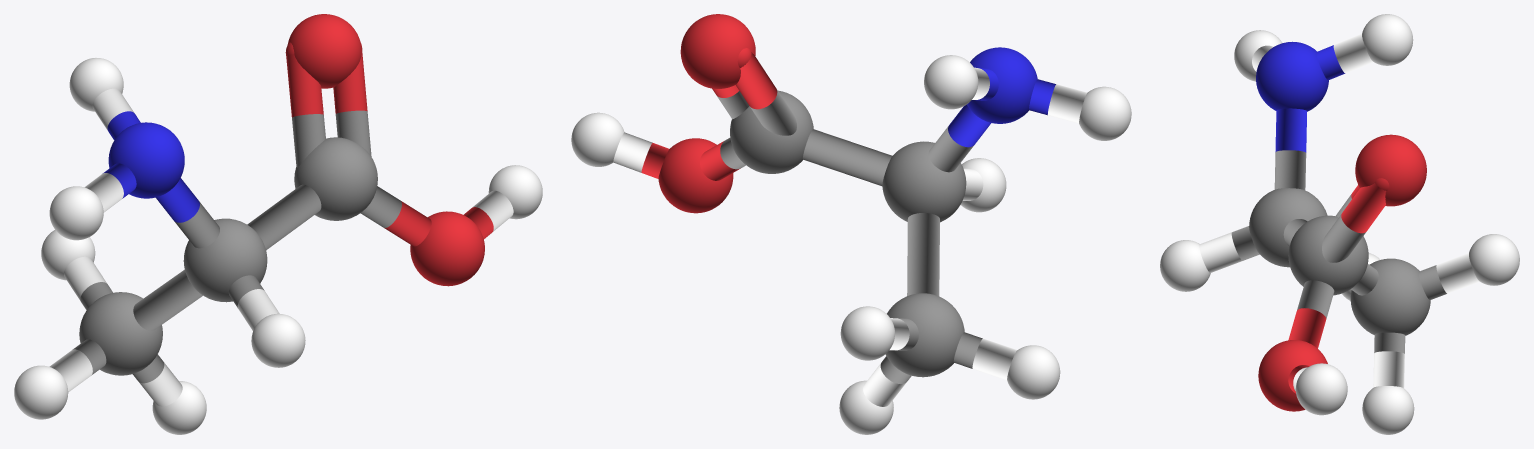
3 renders of one model, left to right at view 1: azimuth 30°, elevation 25°; view 2: azimuth 150°, elevation 25°; view 3: azimuth 270°, elevation 25°, orthographic. The views are drawn at different scales.
Visible parts, largest first — view 1: A; view 2: A; view 3: A.
Part boxes in pixels (bbox=[...]): A: bbox=[14, 14, 542, 434]; A: bbox=[571, 14, 1131, 434]; A: bbox=[1160, 14, 1519, 434].
Bounding box in the file's own units: 5.59 × 4.05 × 3.51.
